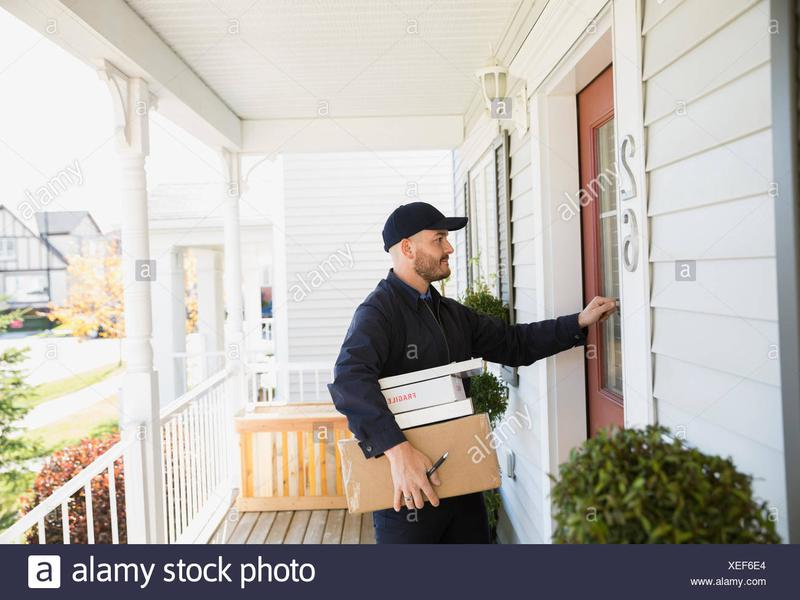package: (333, 416, 506, 517), (385, 375, 481, 427)
